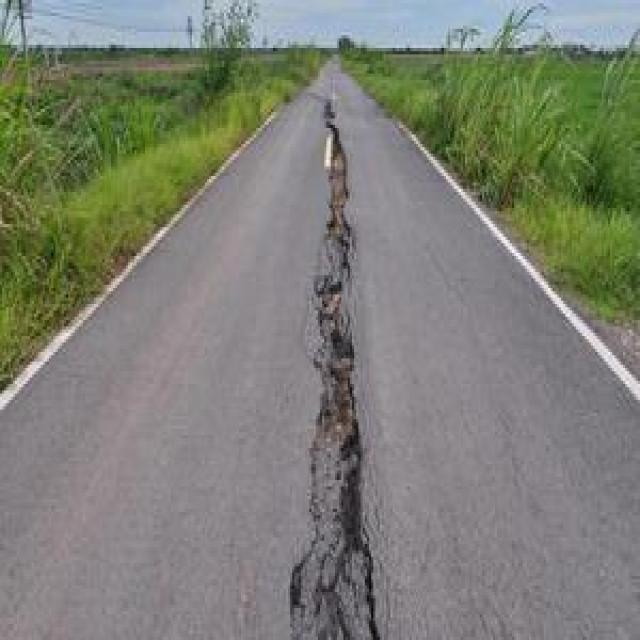road collapse: (129, 40, 480, 640)
